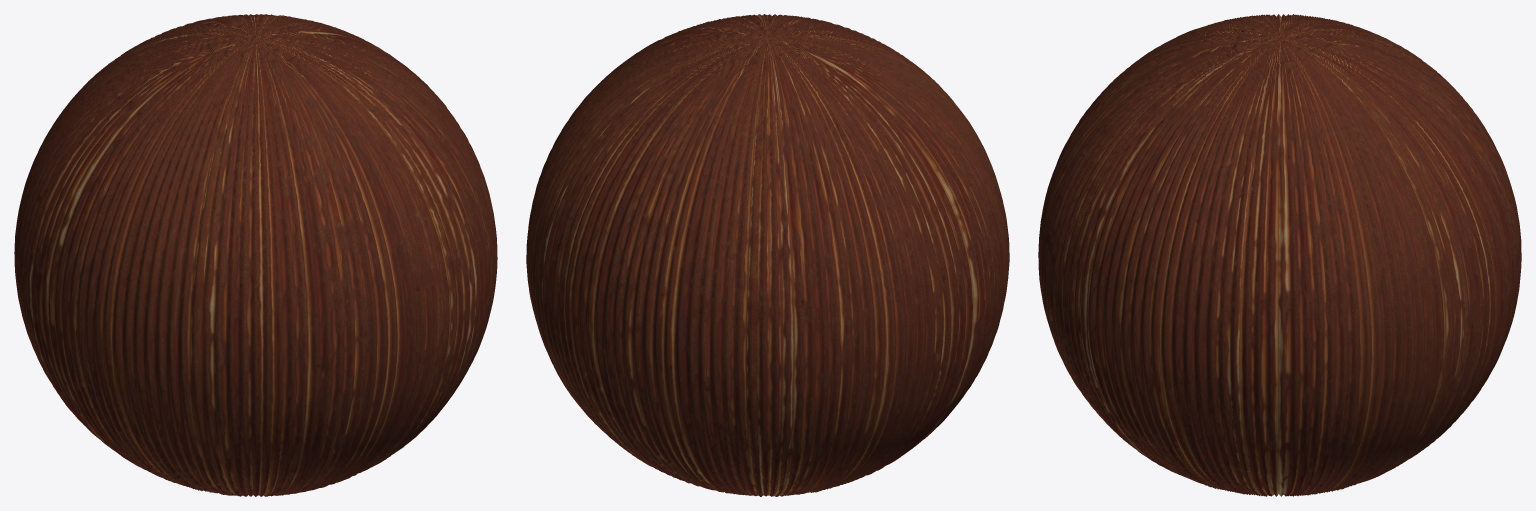
File: rusty_corrugated_iron_1k.gltf
The picture shows the model from 3 angles, left to right: view 1: azimuth 30°, elevation 25°; view 2: azimuth 150°, elevation 25°; view 3: azimuth 270°, elevation 25°; orthographic projection.
Parts seen in each view (by area): view 1: sphere_gltf; view 2: sphere_gltf; view 3: sphere_gltf.
Part boxes in pixels (bbox=[...]): sphere_gltf: bbox=[14, 14, 497, 496]; sphere_gltf: bbox=[526, 14, 1009, 496]; sphere_gltf: bbox=[1038, 14, 1521, 496].
Bounding box in the file's own units: 2.01 × 2.01 × 2.01.
1 material, 1 textured.
